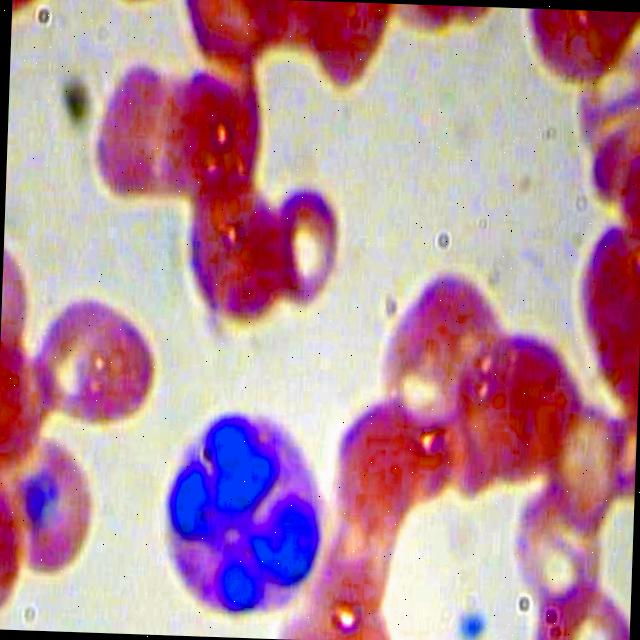Platelets: (453, 598, 488, 640)
RBC: (364, 257, 510, 456), (26, 291, 162, 431), (172, 169, 285, 329), (323, 396, 438, 526), (166, 57, 272, 194), (17, 435, 99, 572), (266, 179, 351, 310), (92, 54, 168, 194), (542, 396, 616, 536), (527, 574, 631, 640)
WBC: (133, 401, 345, 626)
